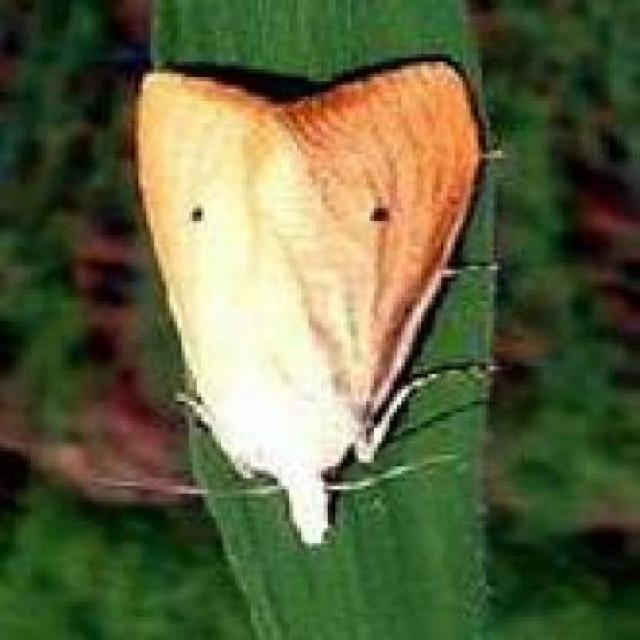stem-borer: (129, 42, 499, 547)
